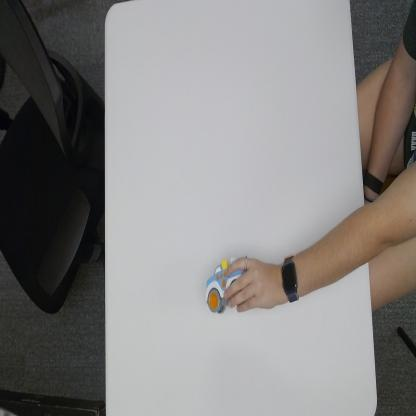Arm: (299, 207, 367, 298)
Car: (205, 254, 244, 316)
Hand: (224, 254, 284, 312)
